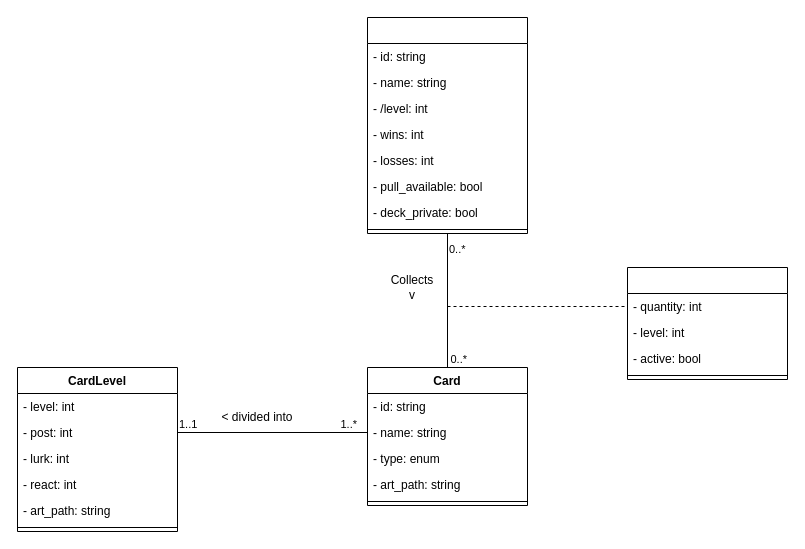
Image size: 805x549. Some labels were removed from this diagram. The box of each missing label's shape, as (x1, y1, x2, y2) in pixels:
Shard: (626, 266, 788, 380)
User: (366, 16, 528, 234)
